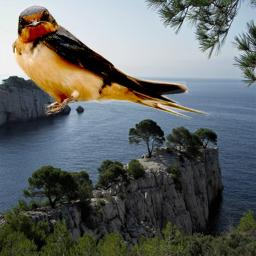Swallow: (10, 4, 210, 126)
